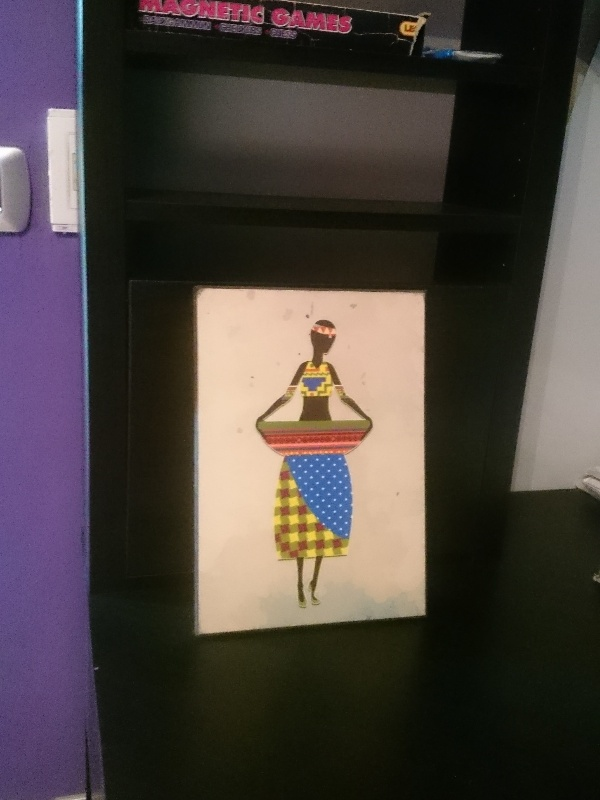my image: (195, 289, 423, 635)
